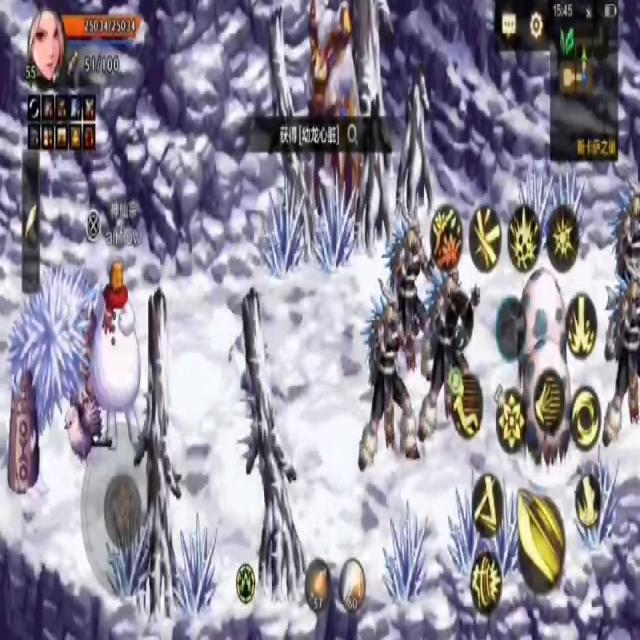player: (84, 254, 143, 449)
